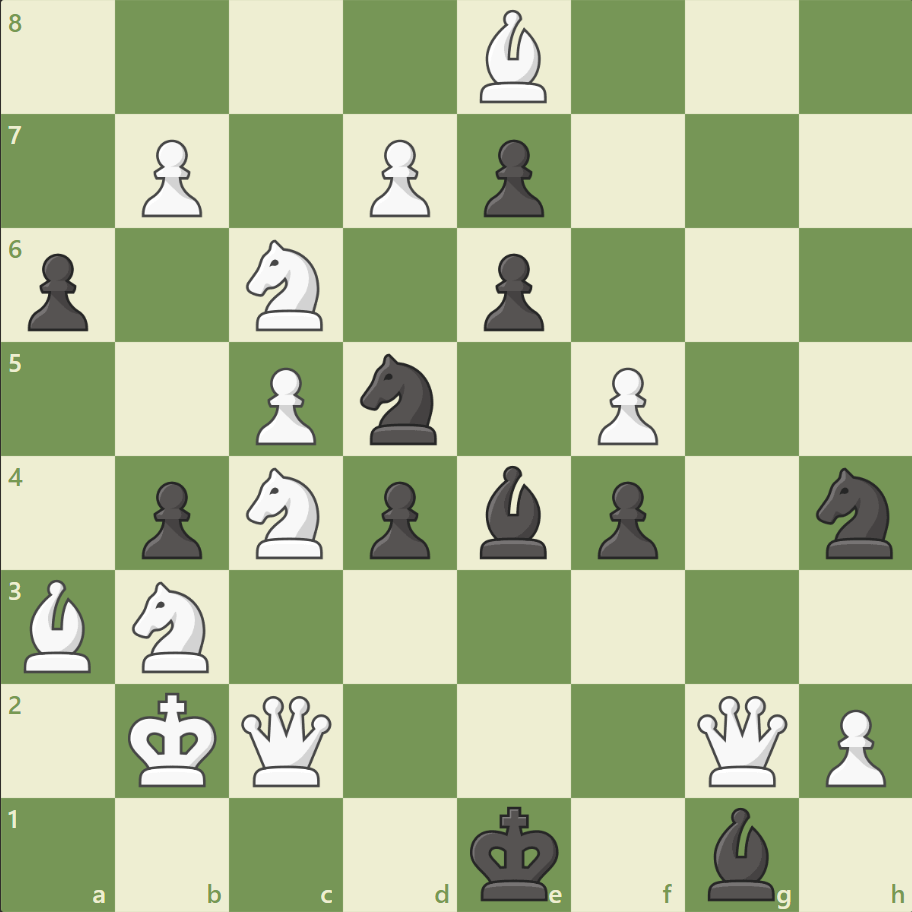B: (471, 6, 555, 109), (17, 574, 101, 676)
K: (124, 685, 224, 793)
N: (124, 575, 222, 677), (238, 234, 335, 337), (238, 461, 335, 564)
P: (133, 132, 208, 223), (247, 359, 322, 450), (361, 132, 435, 223), (588, 359, 662, 450), (815, 700, 889, 791)
Q: (237, 690, 336, 789), (691, 690, 790, 789)
b: (471, 460, 555, 563), (698, 801, 782, 904)
k: (465, 798, 565, 906)
n: (351, 348, 449, 450), (806, 461, 903, 564)
p: (474, 132, 549, 223), (20, 246, 95, 337), (474, 246, 549, 337), (133, 473, 208, 564), (361, 473, 435, 564), (588, 473, 662, 564)
